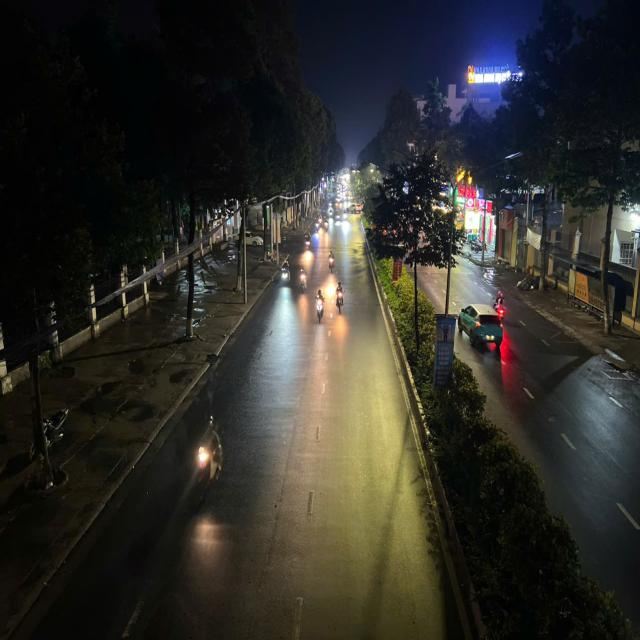car: (460, 297, 504, 356)
motobyte: (198, 425, 218, 507), (315, 289, 323, 327), (335, 285, 344, 314), (327, 250, 337, 276), (299, 269, 308, 296), (280, 265, 290, 289), (301, 234, 314, 252), (336, 210, 341, 224), (318, 213, 322, 228), (324, 218, 328, 232), (314, 222, 319, 232), (328, 207, 333, 217), (343, 210, 347, 221)
